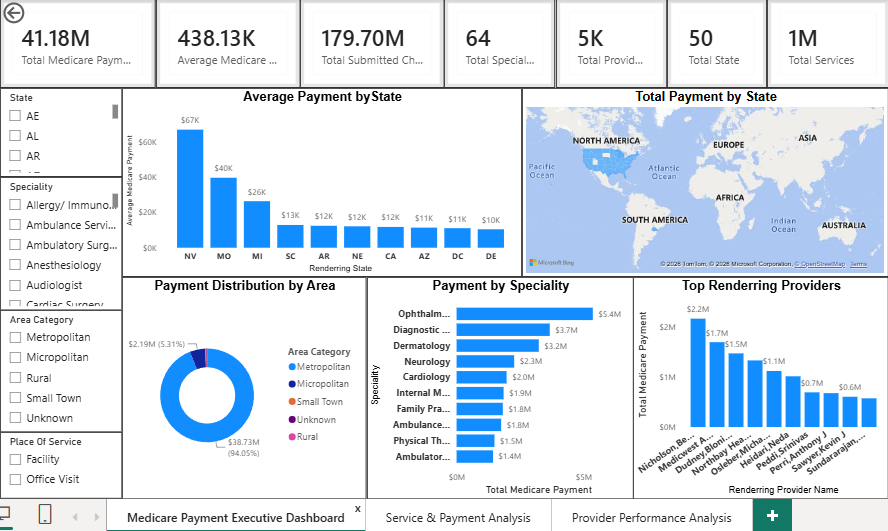

This screenshot's page, from the dashboard's own definition file:
{"tool":"powerbi","page":{"name":"Medicare Payment Executive Dashboard","canvas":[1280,720],"ordinal":0},"visuals":[{"type":"clusteredColumnChart","title":"Average Payment byState","fields":{"Category":["State-wise Average  Medicare Payment (Pivot Table 1).Renderring State"],"Y":["Sum(State-wise Average  Medicare Payment (Pivot Table 1).Average Medicare Payment)"]},"box":[176,128,576,272],"z":0},{"type":"filledMap","title":"Total Payment by State","fields":{"Category":["State-wise Total Medicare Payment (Pivot Table 1).Renderring State","City wise Medicare payment (Pivot Table 2).City Name"]},"box":[752,128,528,272],"z":1000},{"type":"clusteredBarChart","title":"Payment by Speciality","fields":{"Category":["Speciality wise Payment summary (Pivot Table 1).Speciality"],"Y":["Sum(Speciality wise Payment summary (Pivot Table 1).Total Medicare Payment)"]},"box":[528,400,384,320],"z":2000},{"type":"donutChart","title":"Payment Distribution by Area","fields":{"Category":["Area Category wise  Medicare Payment (Pivot Table 2).Area Category"],"Y":["Sum(Area Category wise  Medicare Payment (Pivot Table 2). Total Medicare Payment)"]},"box":[176,400,352,320],"z":3000},{"type":"cardVisual","fields":{"Data":["Sum(Transformed Data.Total Medicare Payment)"]},"box":[0,0,224,128],"z":4000},{"type":"cardVisual","fields":{"Data":["Sum(State-wise Average  Medicare Payment (Pivot Table 1).Average Medicare Payment)"]},"box":[224,0,208,128],"z":5000},{"type":"cardVisual","fields":{"Data":["Sum(Renderring Provider Vs Medicare Payment category.Count of Rendering Provider NPI)"]},"box":[800,0,160,128],"z":6000},{"type":"cardVisual","fields":{"Data":["CountNonNull(State-wise Average  Medicare Payment (Pivot Table 1).Renderring State)"]},"box":[960,0,144,128],"z":7000},{"type":"cardVisual","fields":{"Data":["Sum(Transformed Data.Total Services  )"]},"box":[1104,0,176,128],"z":8000},{"type":"cardVisual","fields":{"Data":["CountNonNull(Speciality wise Payment summary (Pivot Table 1).Speciality)"]},"box":[640,0,160,128],"z":9000},{"type":"cardVisual","fields":{"Data":["Sum(Transformed Data.Total Submitted Charges)"]},"box":[432,0,208,128],"z":10000},{"type":"clusteredColumnChart","title":"Top Renderring Providers","fields":{"Category":["Transformed Data.Renderring Provider Name"],"Y":["Sum(Transformed Data.Total Medicare Payment)"]},"box":[912,400,368,320],"z":11000},{"type":"slicer","fields":{"Values":["Transformed Data.Rendering Provider State"]},"box":[0,128,176,128],"z":12000},{"type":"actionButton","box":[0,0,100,40],"z":13000},{"type":"slicer","fields":{"Values":["Transformed Data.Rendering Provider Type  "]},"box":[0,256,176,192],"z":14000},{"type":"slicer","fields":{"Values":["Transformed Data.Area Category"]},"box":[0,448,176,176],"z":15000},{"type":"slicer","fields":{"Values":["Transformed Data.Place_Of_Service"]},"box":[0,624,176,96],"z":16000}]}

Visuals, with their boxes on the page's 1280x720 design canvas (x1, y1, x2, y2). These are canvas units, not pixel positions in the 888x531 screenshot, which may show the page scaled, cropped or inside an application window:
"Average Payment byState" clusteredColumnChart: pyautogui.locateOnScreen(176, 128, 752, 400)
"Total Payment by State" filledMap: pyautogui.locateOnScreen(752, 128, 1280, 400)
"Payment by Speciality" clusteredBarChart: pyautogui.locateOnScreen(528, 400, 912, 720)
"Payment Distribution by Area" donutChart: pyautogui.locateOnScreen(176, 400, 528, 720)
cardVisual - Sum(Transformed Data.Total Medicare Payment): pyautogui.locateOnScreen(0, 0, 224, 128)
cardVisual - Sum(State-wise Average  Medicare Payment (Pivot Table 1).Average Medicare Payment): pyautogui.locateOnScreen(224, 0, 432, 128)
cardVisual - Sum(Renderring Provider Vs Medicare Payment category.Count of Rendering Provider NPI): pyautogui.locateOnScreen(800, 0, 960, 128)
cardVisual - CountNonNull(State-wise Average  Medicare Payment (Pivot Table 1).Renderring State): pyautogui.locateOnScreen(960, 0, 1104, 128)
cardVisual - Sum(Transformed Data.Total Services  ): pyautogui.locateOnScreen(1104, 0, 1280, 128)
cardVisual - CountNonNull(Speciality wise Payment summary (Pivot Table 1).Speciality): pyautogui.locateOnScreen(640, 0, 800, 128)
cardVisual - Sum(Transformed Data.Total Submitted Charges): pyautogui.locateOnScreen(432, 0, 640, 128)
"Top Renderring Providers" clusteredColumnChart: pyautogui.locateOnScreen(912, 400, 1280, 720)
slicer - Transformed Data.Rendering Provider State: pyautogui.locateOnScreen(0, 128, 176, 256)
actionButton: pyautogui.locateOnScreen(0, 0, 100, 40)
slicer - Transformed Data.Rendering Provider Type  : pyautogui.locateOnScreen(0, 256, 176, 448)
slicer - Transformed Data.Area Category: pyautogui.locateOnScreen(0, 448, 176, 624)
slicer - Transformed Data.Place_Of_Service: pyautogui.locateOnScreen(0, 624, 176, 720)
